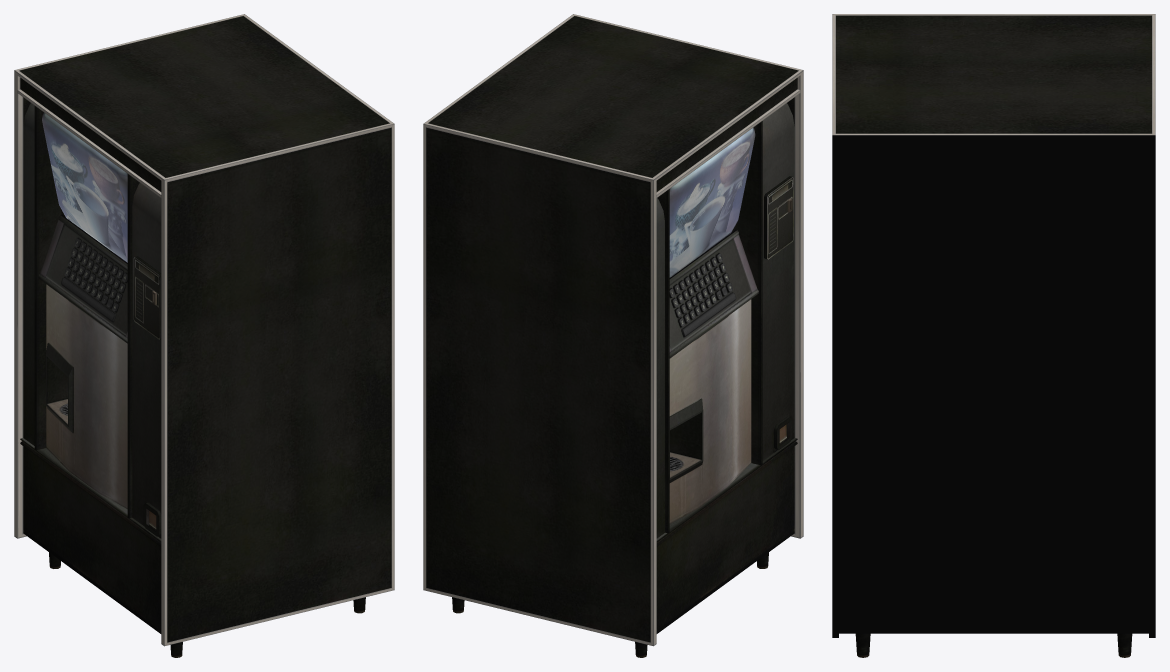
File: scp-294.fbx
3 renders of one model, left to right at view 1: azimuth 30°, elevation 25°; view 2: azimuth 150°, elevation 25°; view 3: azimuth 270°, elevation 25°, orthographic. The views are drawn at different scales.
Parts seen in each view (by area): view 1: SCP-294; view 2: SCP-294; view 3: SCP-294.
Part boxes in pixels (box(x1,y1,x2,y2)): SCP-294: box(14, 14, 394, 657); SCP-294: box(423, 14, 803, 657); SCP-294: box(832, 14, 1155, 657).
Size of the model in its own units: 2 by 4.09 by 2.26.
Materials: 1 (1 with a texture image).
